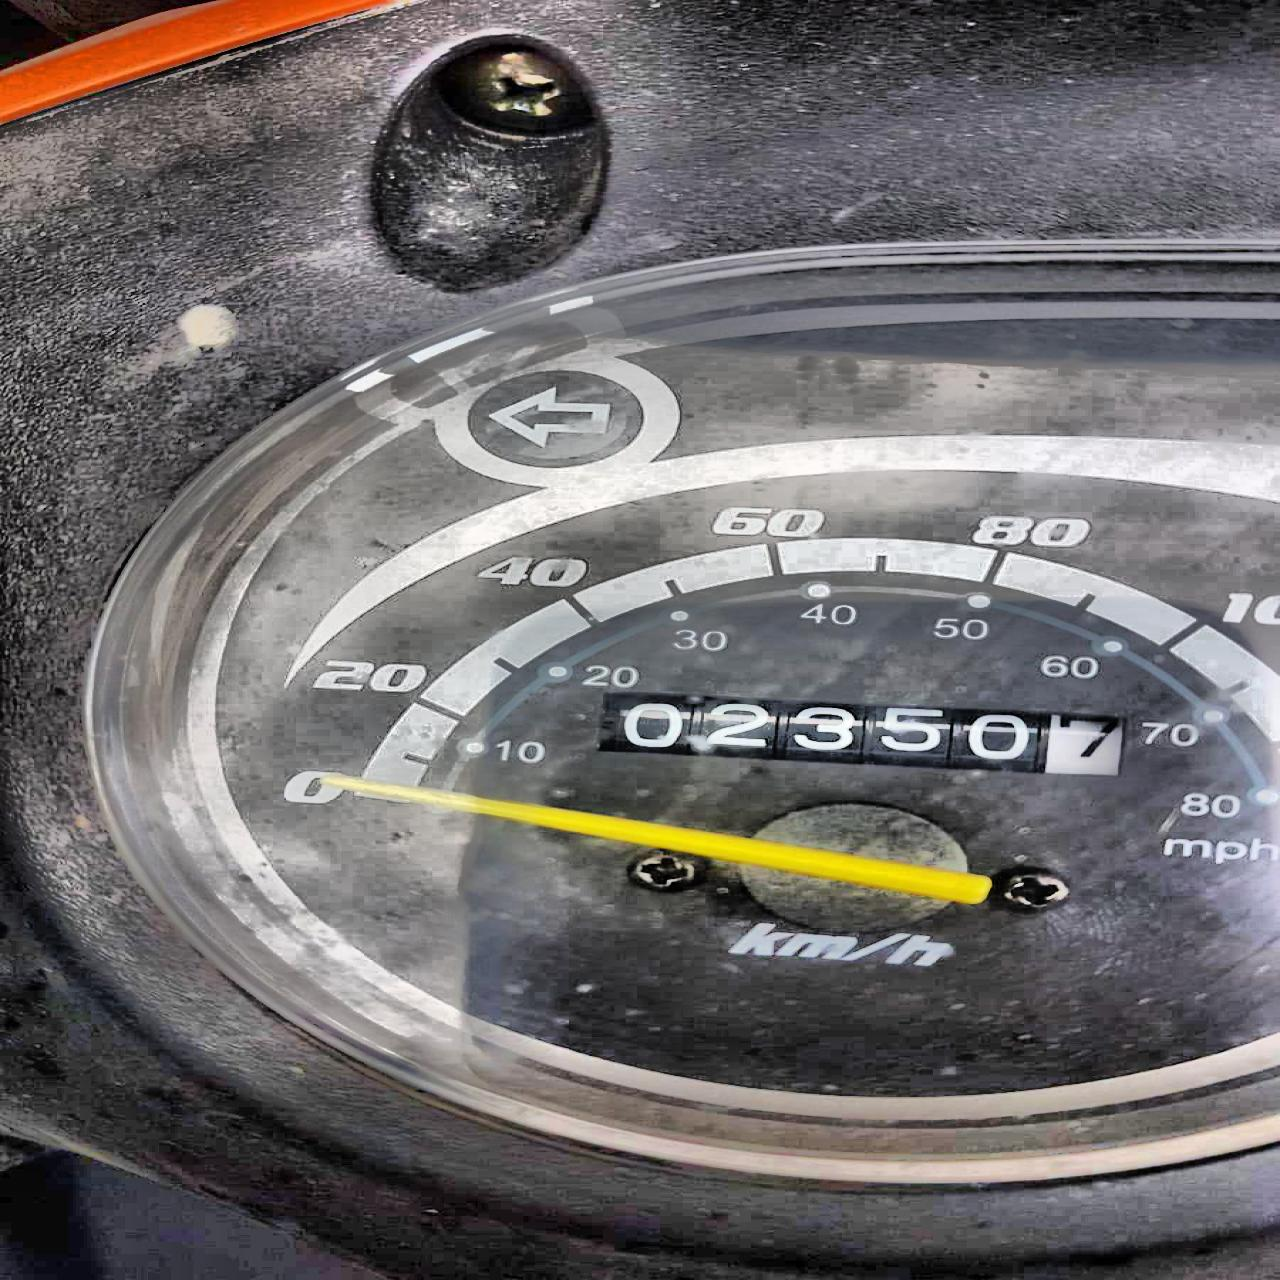0: (964, 710, 1032, 763), (620, 699, 685, 749)
2: (702, 700, 771, 751)
3: (792, 703, 855, 750)
5: (879, 702, 945, 754)
7: (1056, 709, 1123, 760)
odometer: (585, 690, 1137, 782)
